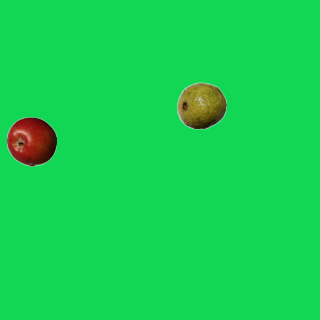Apple Braeburn: (6, 116, 56, 166)
Guava: (176, 80, 226, 130)
